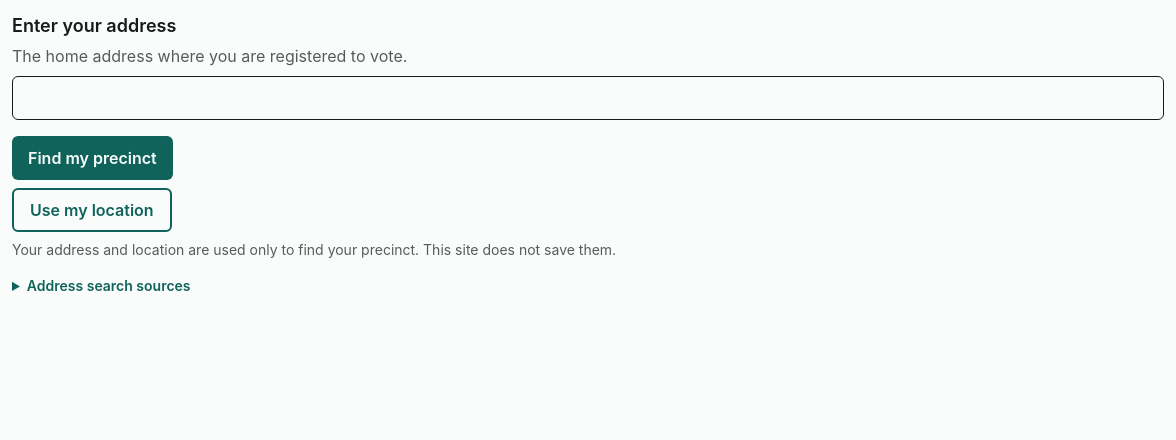
AddressLookup › never opens a code of the other jurisdiction: {"jurisdiction":"city","precinct":{"code":"OAK019"}}
Type "7700 Fine Rd, Saint Louis, MO 63129" into the dropdown labelled "Enter your address" at (588, 98), box x1=12 y1=76 x2=1164 y2=120
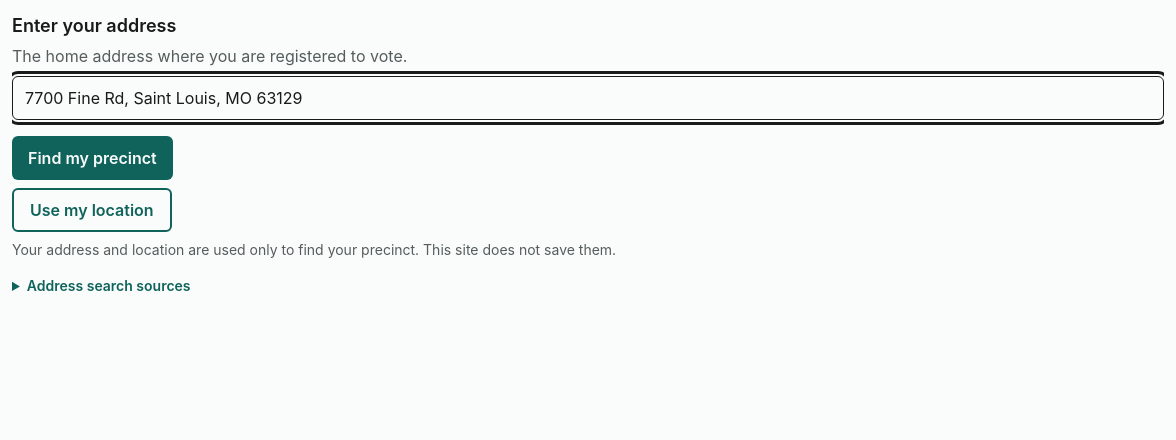
Click the button "Find my precinct" at (92, 158), box x1=12 y1=136 x2=173 y2=180
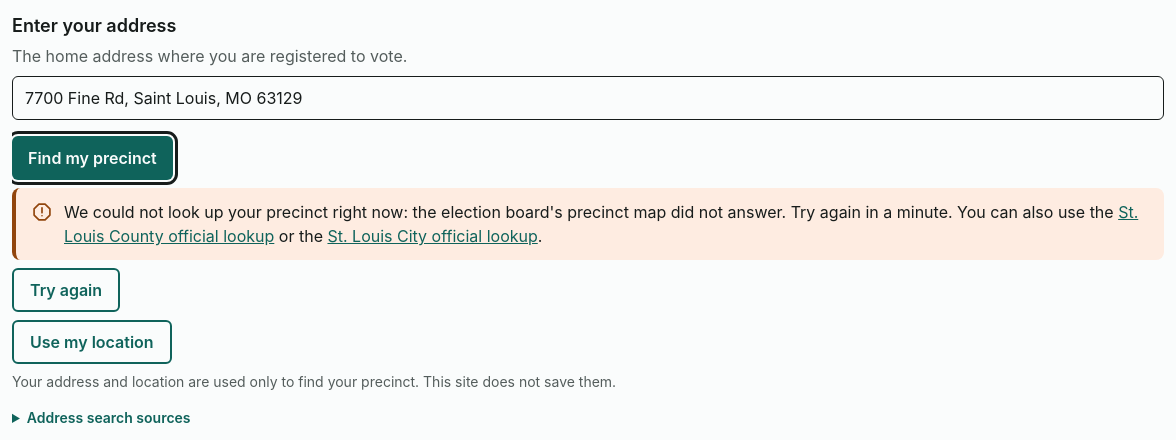
Expected: the text "We could not look up your precinct right now: the election board's precinct map did not answer. Try again in a minute." is shown, x1=64 y1=202 x2=953 y2=222
